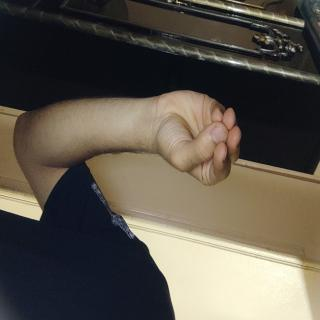HA: (59, 100, 140, 242)
